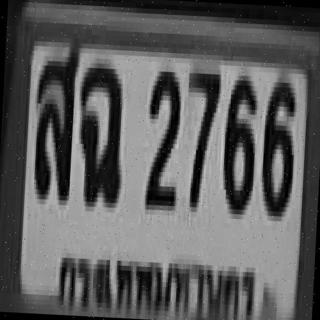A09: (75, 59, 128, 212)
A40: (30, 45, 80, 205)
N02: (143, 66, 183, 213)
N06: (258, 77, 300, 218), (220, 74, 259, 216)
N07: (181, 66, 222, 212)
P04: (52, 233, 260, 320)
